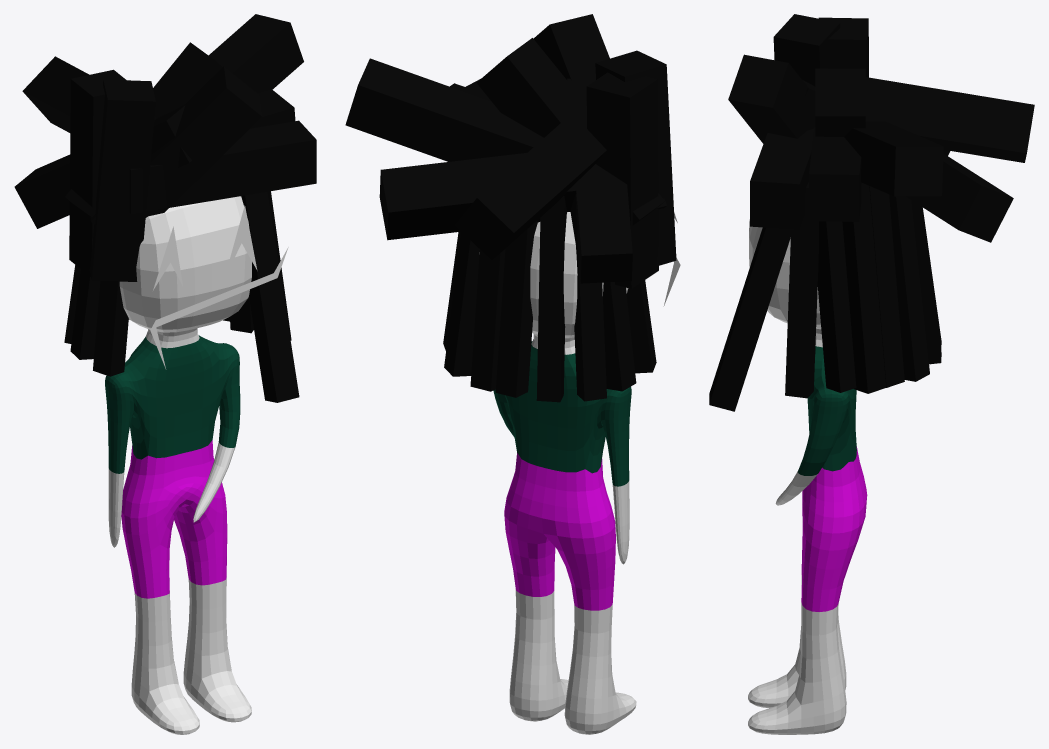
File: Лисбиянка.fbx
3 views of the same model, side by side, from view 1: azimuth 30°, elevation 25°; view 2: azimuth 150°, elevation 25°; view 3: azimuth 270°, elevation 25° (orthographic). The views are drawn at different scales.
Visible parts, largest first — view 1: Cube; view 2: Cube; view 3: Cube.
Part boxes in pixels (x1,y1,x2,y2): Cube: (14, 14, 316, 734); Cube: (345, 14, 680, 734); Cube: (709, 14, 1034, 734).
Bounding box in the file's own units: 137 × 307 × 136.
